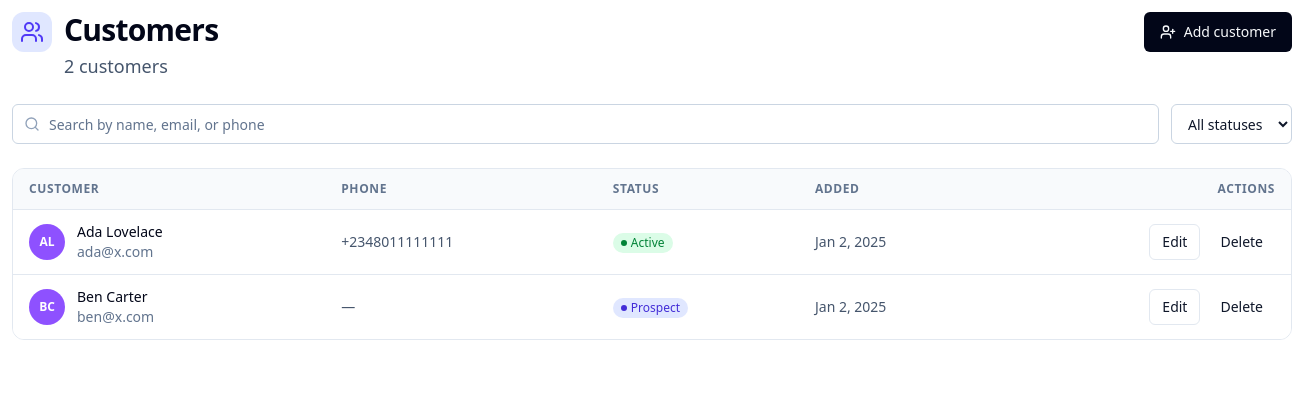
Test: CustomersPage › searches and filters by status, and reports no matches
This screenshot has width=1304, height=396.
Expected: the button "Ada Lovelace" is shown, [77,222,163,242]
Type "ben@" into the search field named "Search customers". click: (586, 124)
box: [12,104,1159,144]
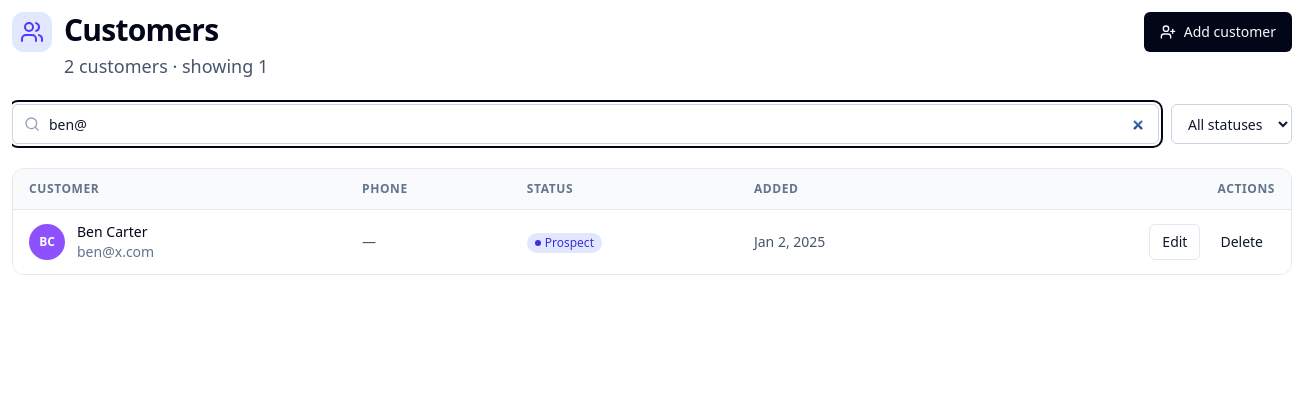
Expected: the button "Ben Carter" is shown, [77,222,148,242]
Expected: the button "Ada Lovelace" is gone
Clear the search field named "Search customers". click: (586, 124)
box: [12,104,1159,144]
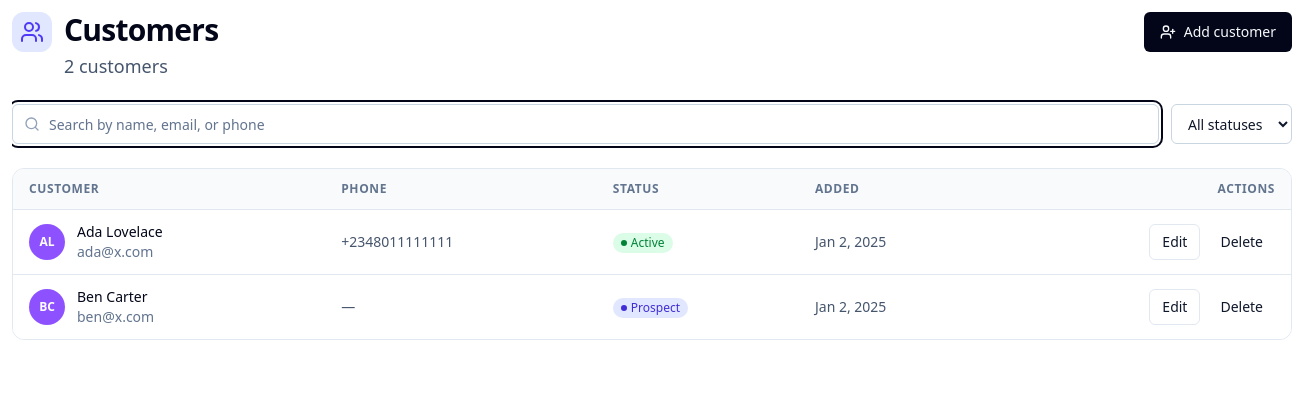
Select "Active" in the dropdown named "Filter by status". click: (1232, 124)
box: [1171,104,1292,144]
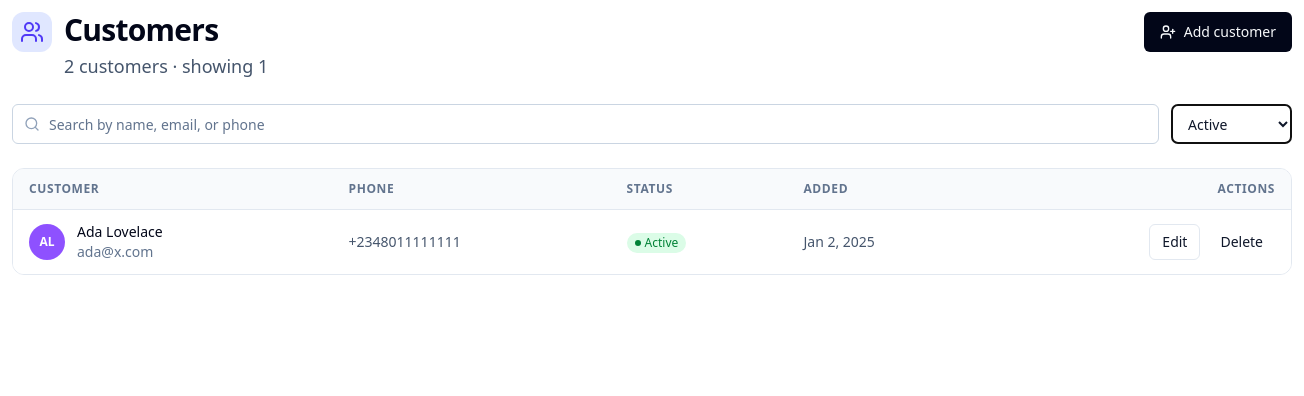
Expected: the button "Ada Lovelace" is shown, [77,222,163,242]
Expected: the button "Ben Carter" is gone
Type "zzz" into the search field named "Search customers". click: (586, 124)
box: [12,104,1159,144]
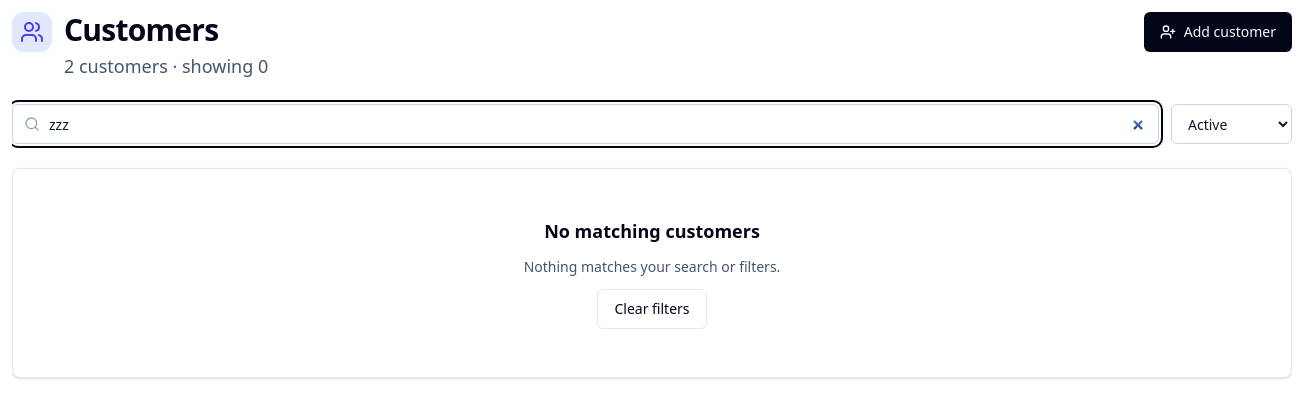
Expected: the heading "No matching customers" is shown, [544,217,760,245]
Click the button "Clear filters". click: (652, 309)
box: [597,289,706,329]
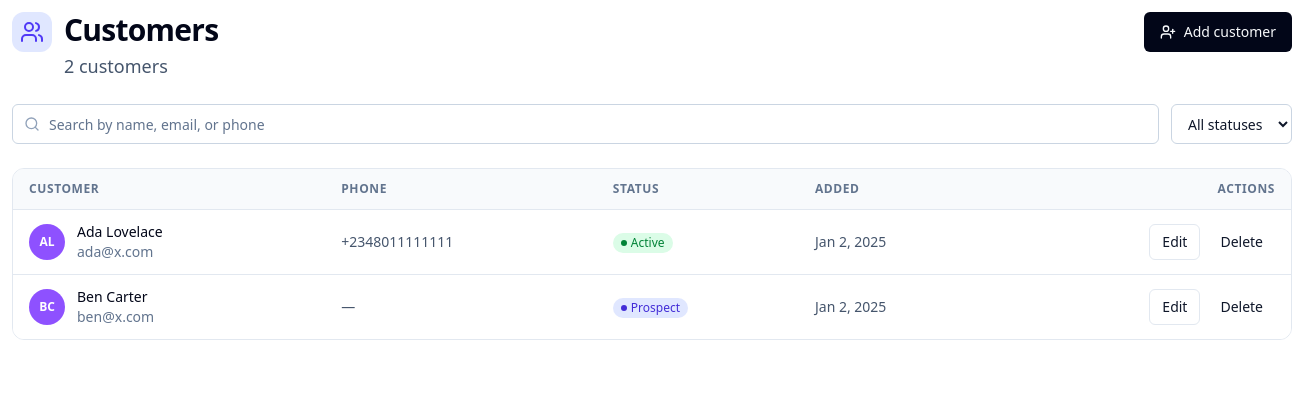
Expected: the button "Ben Carter" is shown, [77,287,148,307]
